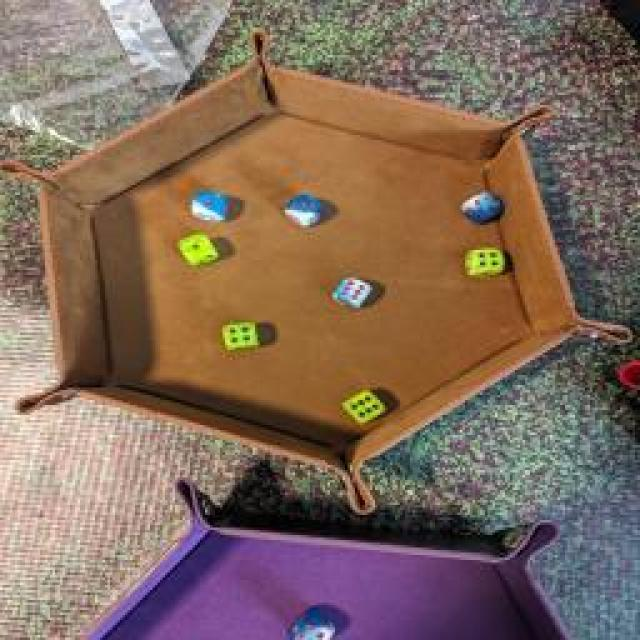dice_1: (174, 231, 221, 269), (190, 188, 232, 224)
dice_3: (279, 192, 326, 228)
dice_4: (288, 605, 342, 640), (453, 191, 505, 224), (221, 318, 264, 352), (462, 246, 506, 279)
dice_6: (336, 388, 386, 422), (330, 274, 372, 308)
